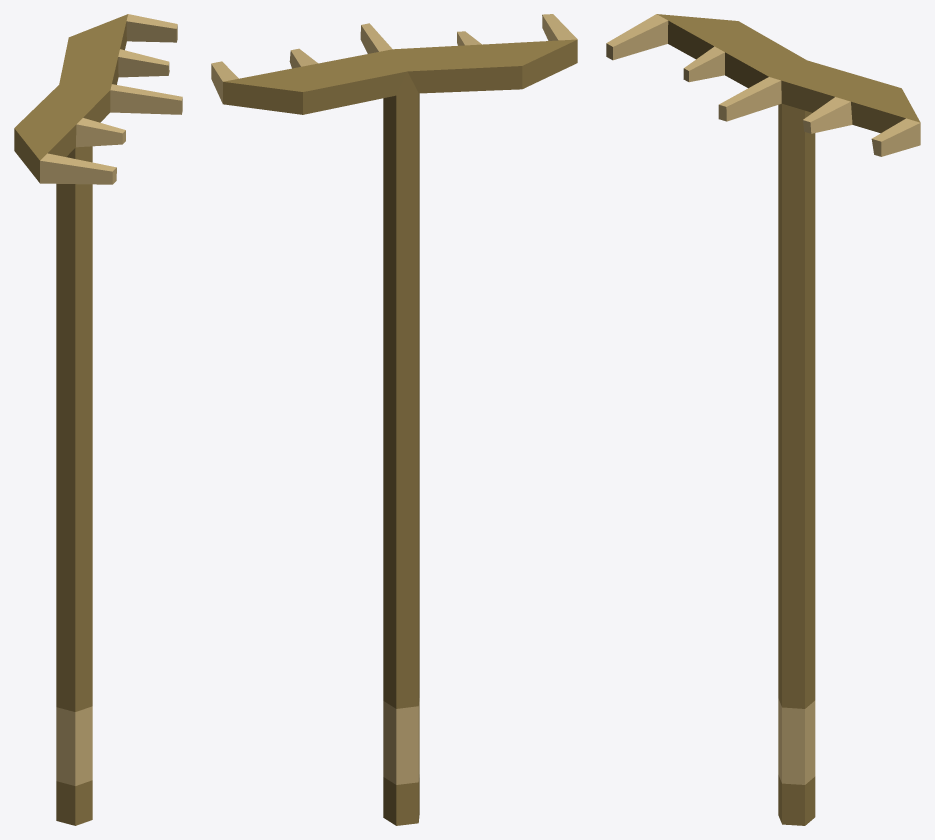
Rendered from weapon2rake.fbx.
The picture shows the model from 3 angles, left to right: view 1: azimuth 30°, elevation 25°; view 2: azimuth 150°, elevation 25°; view 3: azimuth 270°, elevation 25°; orthographic projection. The views are drawn at different scales.
Visible parts, largest first — view 1: pCylinder1; view 2: pCylinder1; view 3: pCylinder1.
Boxes of the visible parts, <box> form: pCylinder1: <box>14,14,182,825</box>; pCylinder1: <box>211,14,577,825</box>; pCylinder1: <box>606,14,920,825</box>.
Size of the model in its own units: 0.4594 by 1.3 by 0.492.
